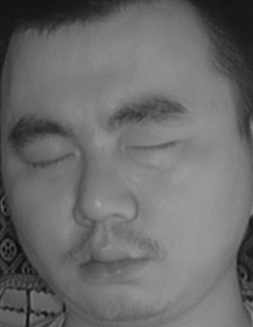blink: (127, 128, 179, 165), (28, 144, 81, 178)
mouth: (71, 233, 158, 289)
